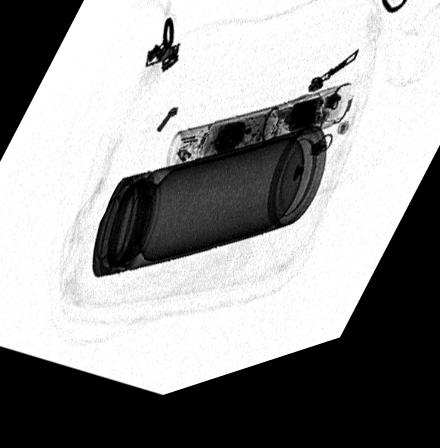Baton: (163, 103, 354, 185)
